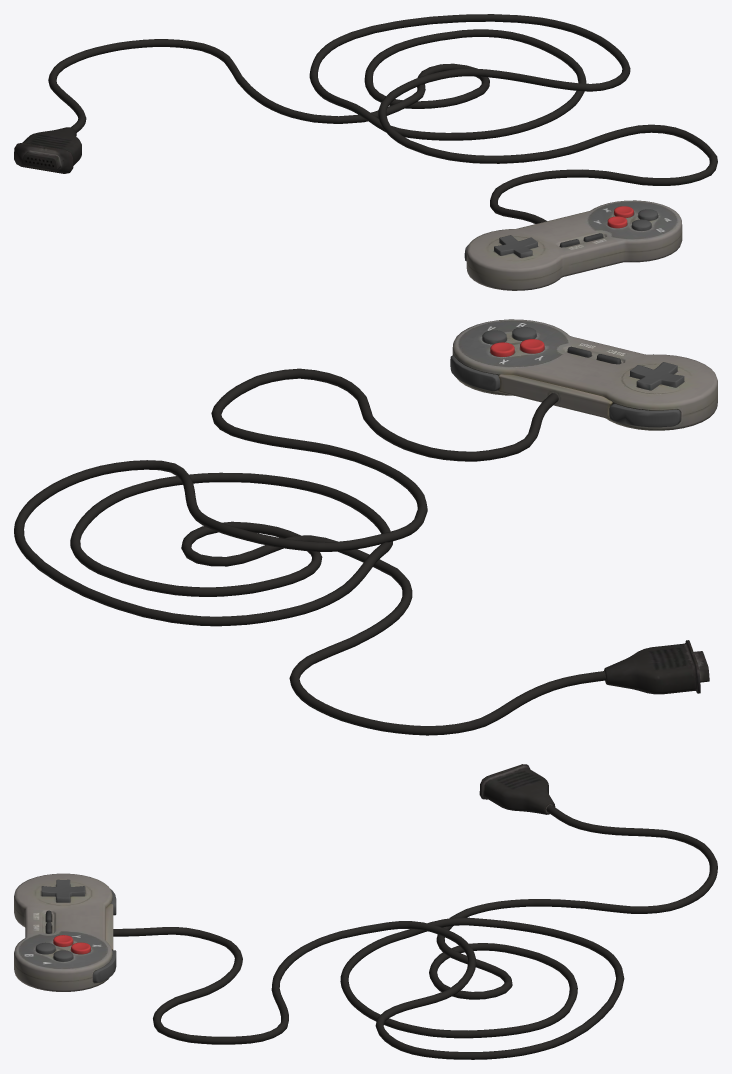
File: gamepad.glb
3 renders of one model, top to bottom at view 1: azimuth 30°, elevation 25°; view 2: azimuth 150°, elevation 25°; view 3: azimuth 270°, elevation 25°, orthographic. The views are drawn at different scales.
Parts seen in each view (by area): view 1: gamepad; view 2: gamepad; view 3: gamepad.
Part boxes in pixels (bbox=[...]): gamepad: bbox=[14, 14, 717, 290]; gamepad: bbox=[14, 319, 717, 735]; gamepad: bbox=[14, 764, 717, 1059].
Bounding box in the file's own units: 0.4041 × 0.0189 × 0.435.
Materials: 1 (1 with a texture image).
